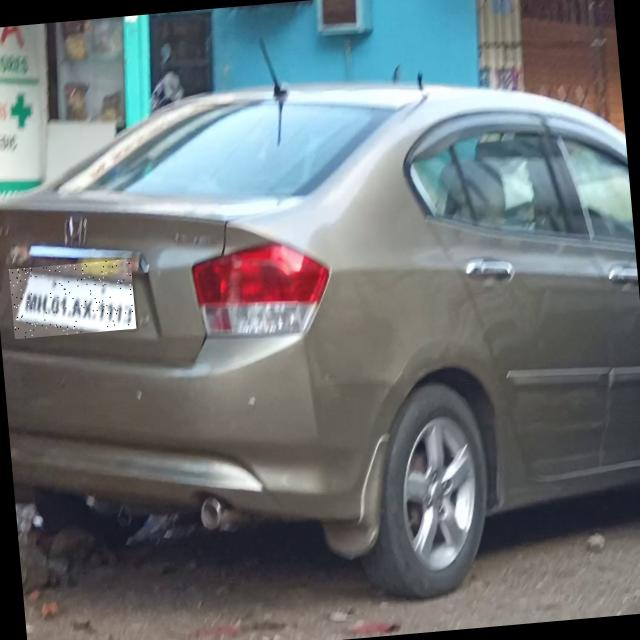Plate: (9, 260, 137, 340)
